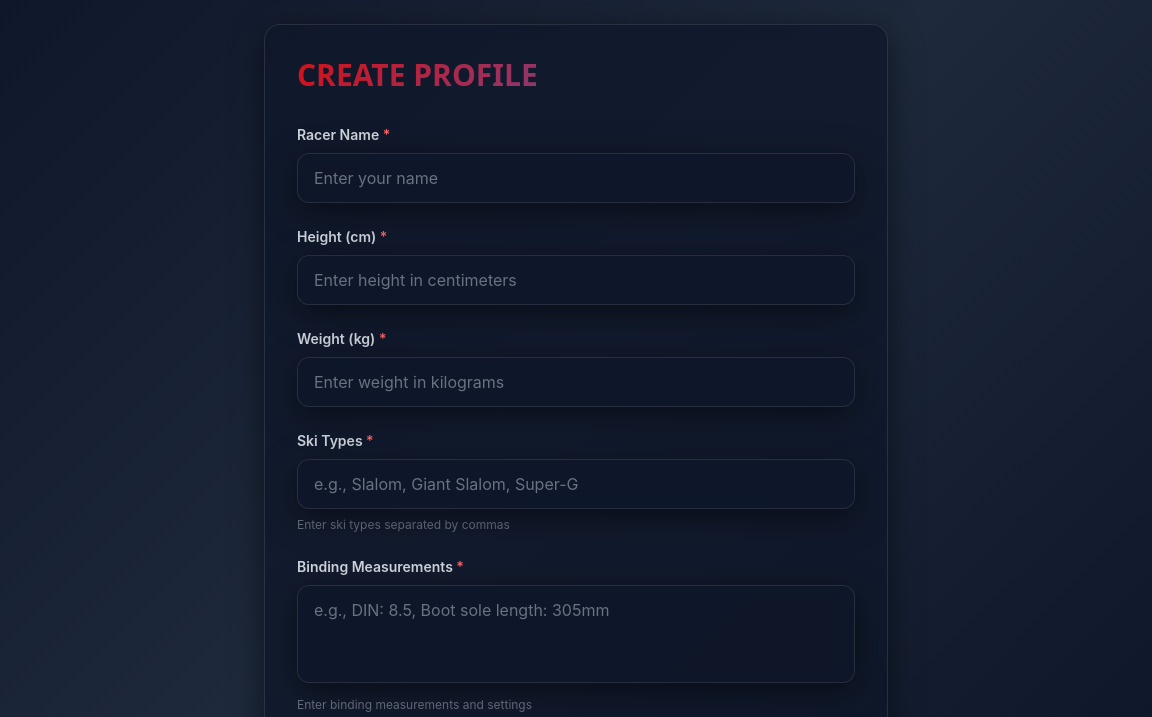
Scenario: ProfileForm › Validation › should show error when weight is zero
This screenshot has width=1152, height=717.
In the number field labelled "Weight (kg) *": (576,382) [297,357,855,407], type "0"
(page scrolled)
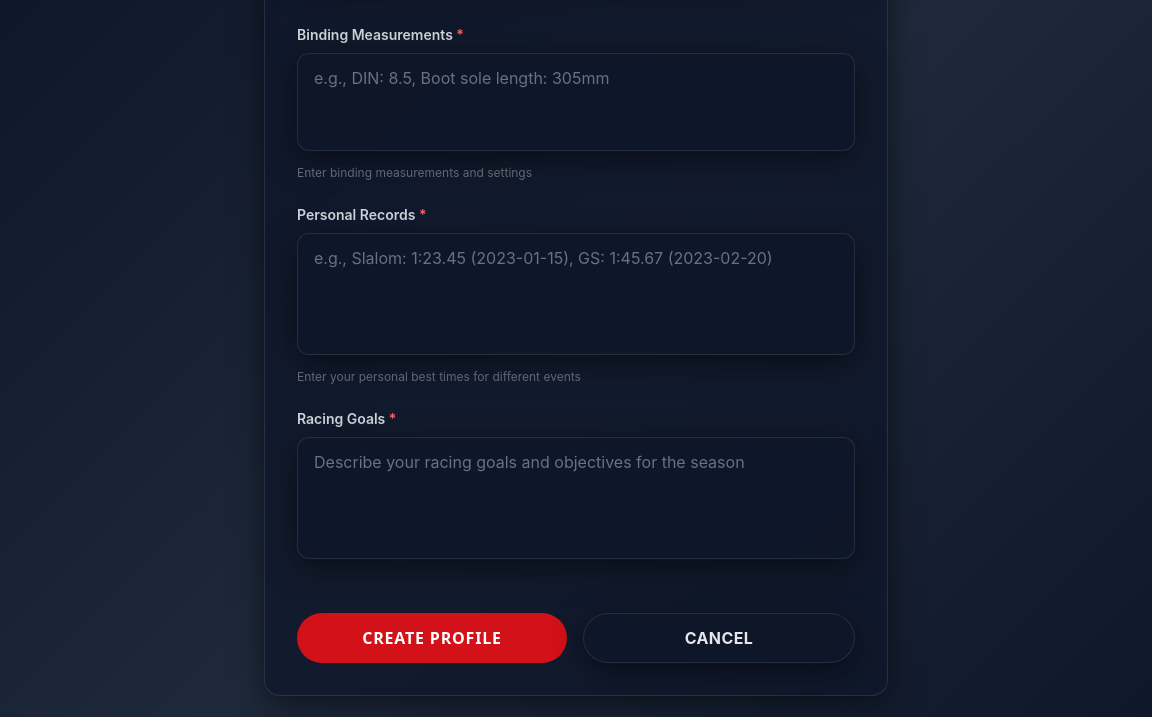
Click the button "Create Profile": (432,638) [297,613,567,663]
(page scrolled)
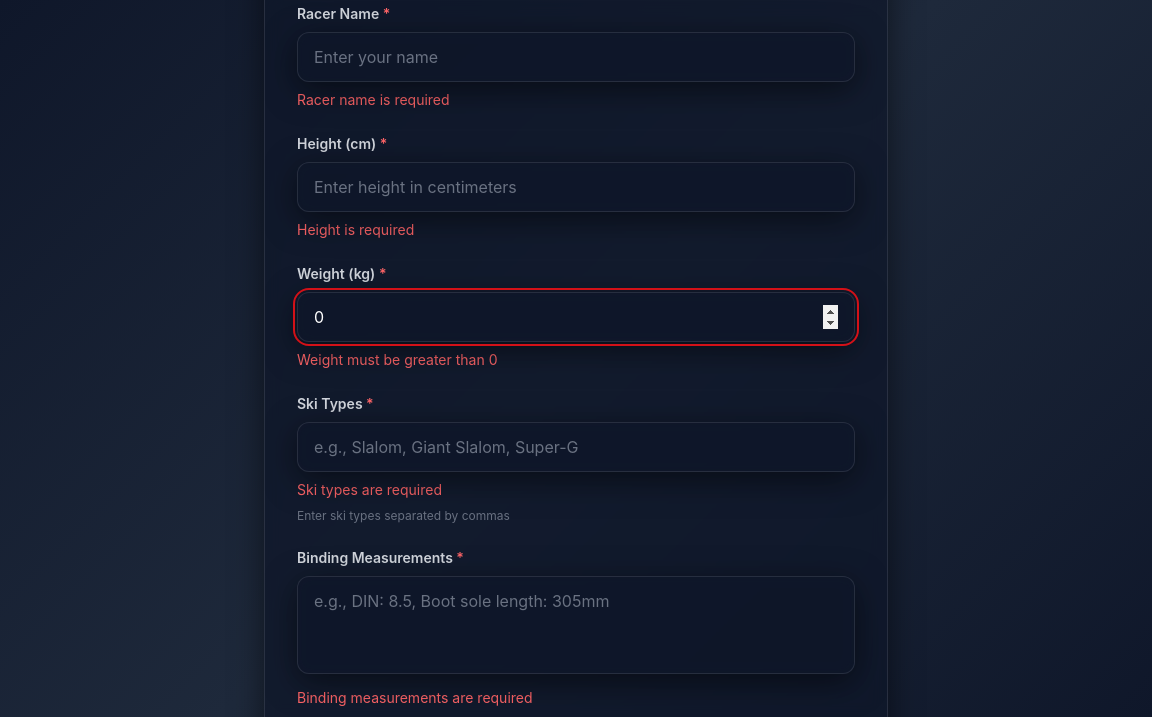
Now the text "Weight must be greater than 0" is shown, box [297,351,498,368]
